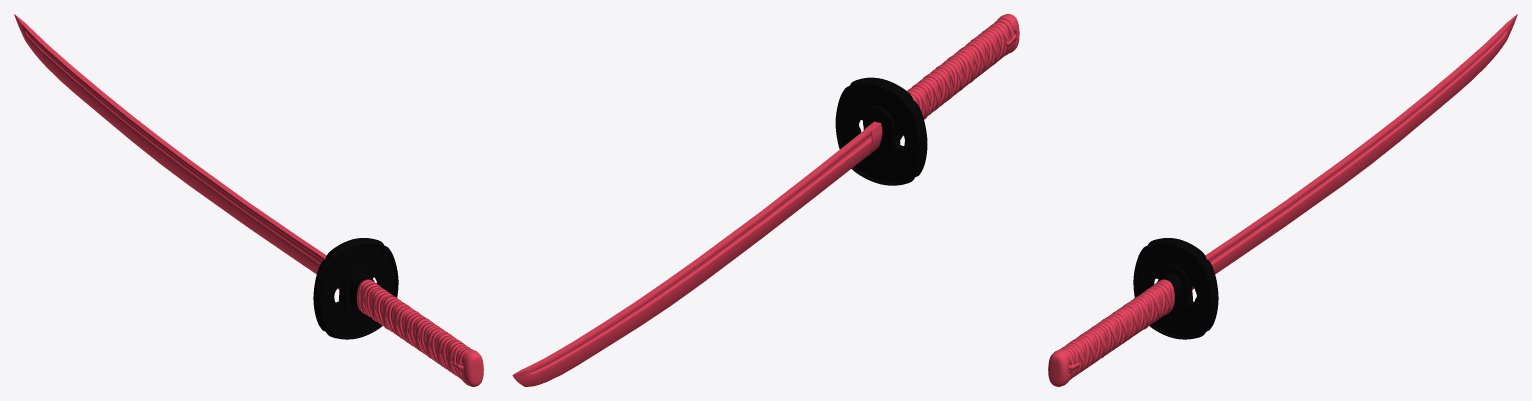
The model's file is Katana.fbx.
3 views of the same model, side by side, from view 1: azimuth 30°, elevation 25°; view 2: azimuth 150°, elevation 25°; view 3: azimuth 330°, elevation 25° (orthographic). The views are drawn at different scales.
Parts seen in each view (by area): view 1: KatanaBlade; view 2: KatanaBlade; view 3: KatanaBlade.
Boxes of the visible parts, x1=… form: KatanaBlade: x1=14, y1=14, x2=483, y2=386; KatanaBlade: x1=512, y1=14, x2=1019, y2=386; KatanaBlade: x1=1048, y1=14, x2=1517, y2=386.
Bounding box in the file's own units: 11 × 12.32 × 106.
